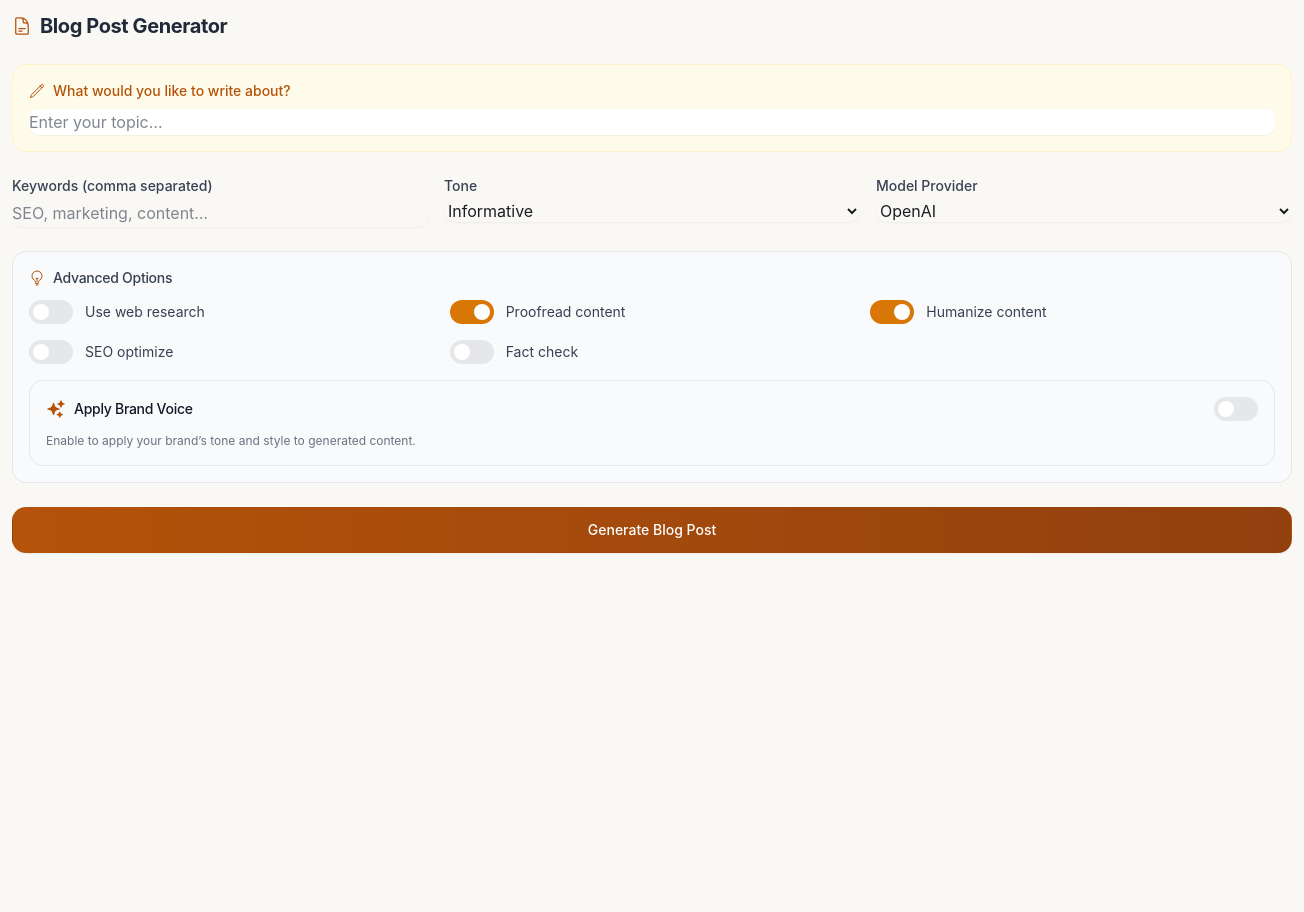
Test: ContentGenerator › Error Handling › should display error on API failure
The width and height of the screenshot is (1304, 912).
Type "Test Topic" into the field labelled "What would you like to write about?" at (652, 122), box [29,109,1275,135]
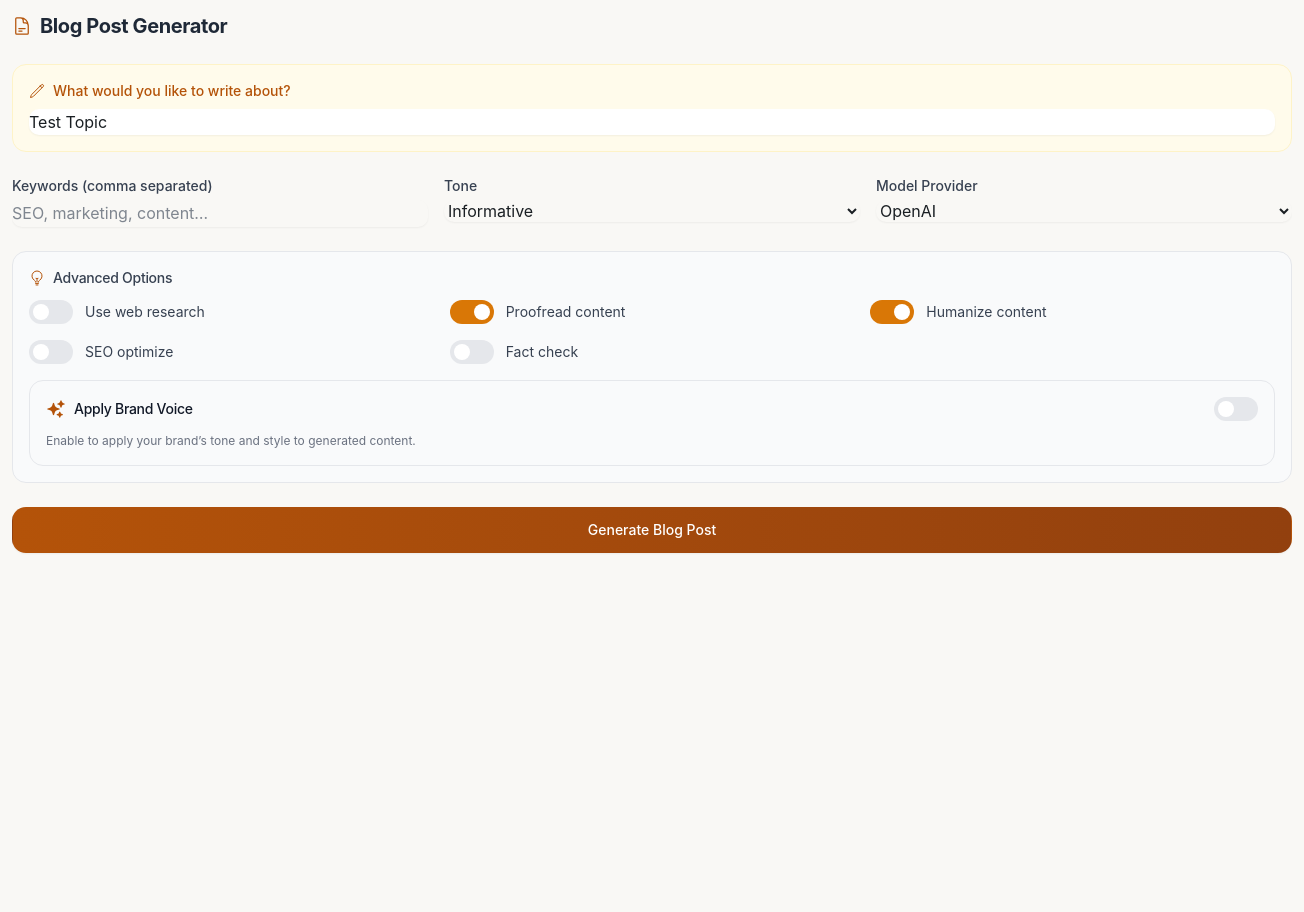
Submit the form from the button "Generate Blog Post", box [12,507,1292,553]
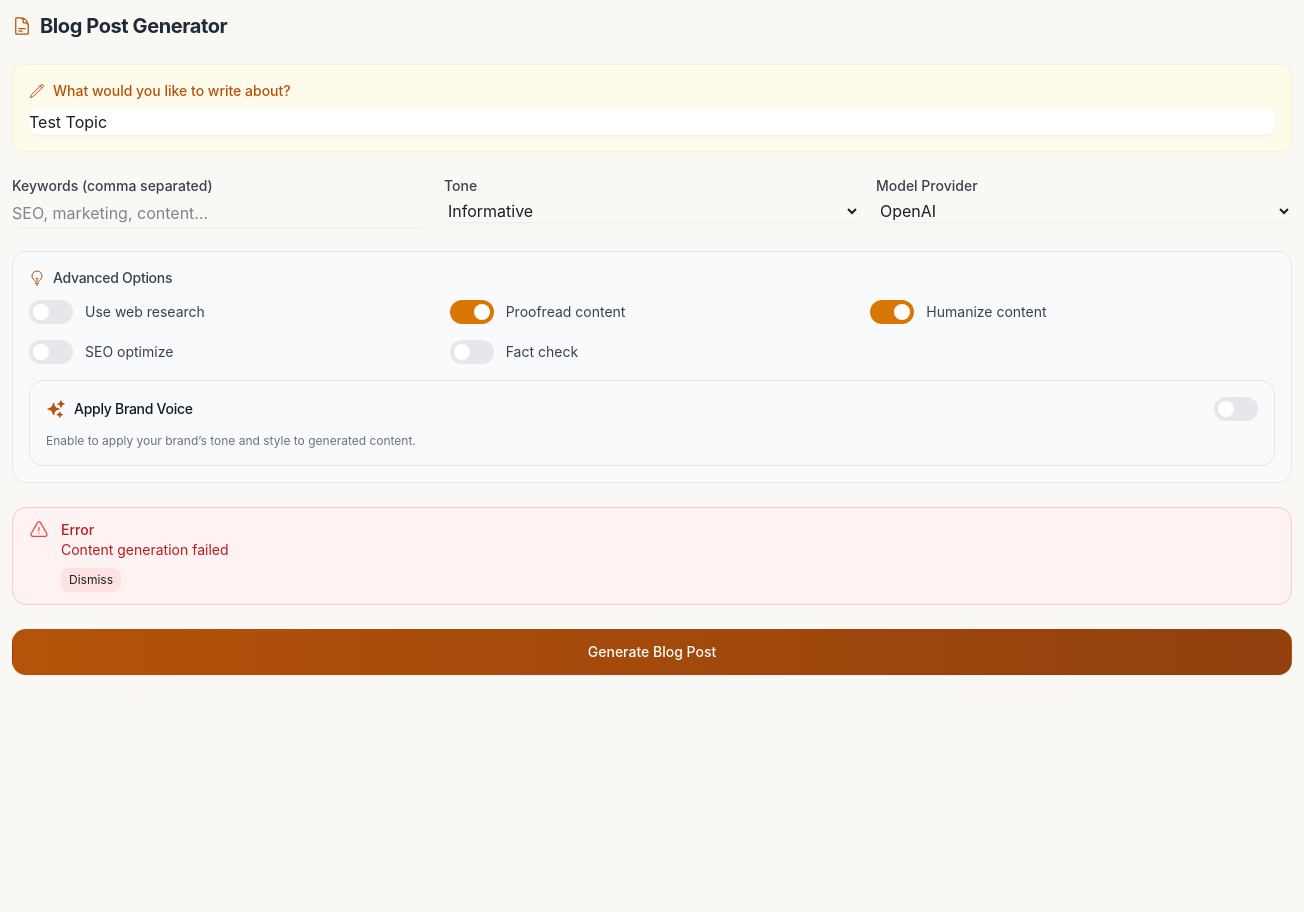
Expected: the text "Error" is shown, [61,521,94,538]
Expected: the text "Content generation failed" is shown, [61,541,228,558]
